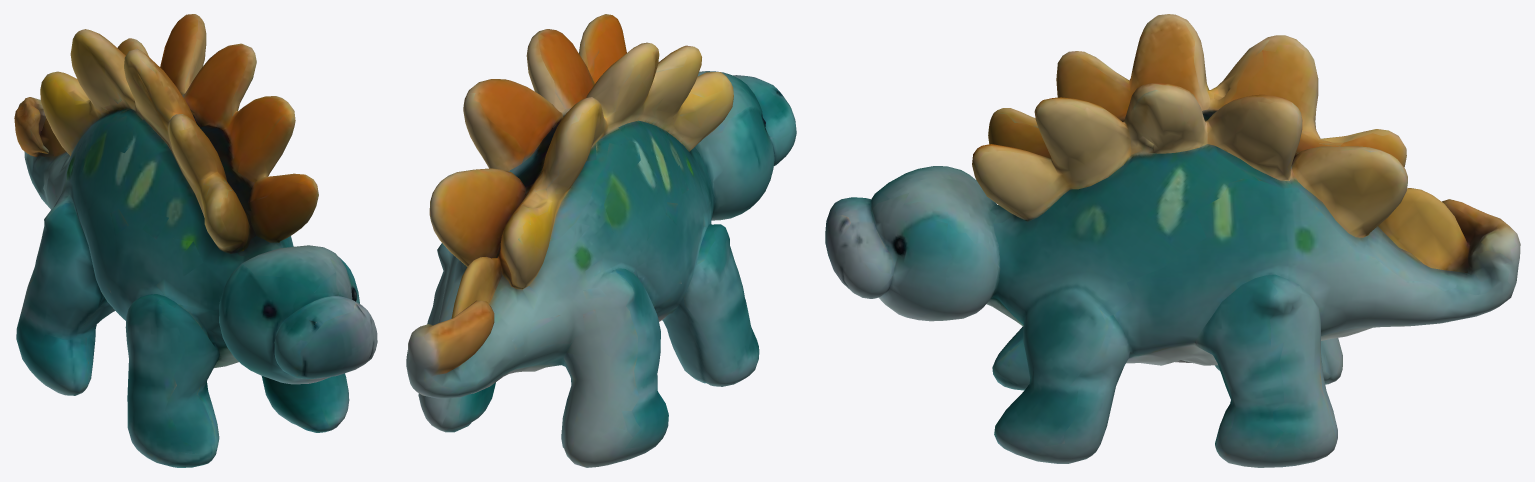
Rendered from baby.glb.
3 views of the same model, side by side, from view 1: azimuth 30°, elevation 25°; view 2: azimuth 150°, elevation 25°; view 3: azimuth 270°, elevation 25° (orthographic). The views are drawn at different scales.
Parts seen in each view (by area): view 1: Body; view 2: Body; view 3: Body.
Boxes of the visible parts, x1,y1,x2,y2 form: Body: [14, 14, 377, 467]; Body: [406, 14, 796, 467]; Body: [825, 14, 1520, 467].
Bounding box in the file's own units: 0.197 × 0.3 × 0.4948.
Materials: 1 (1 with a texture image).
